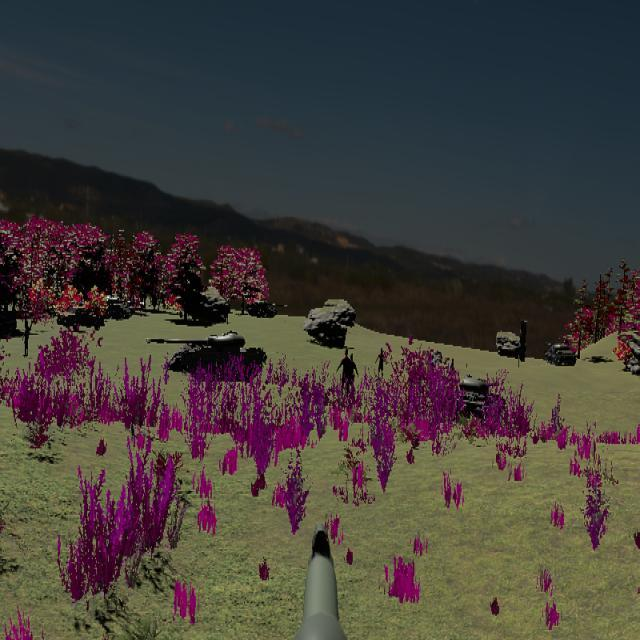Tank: (145, 330, 267, 382), (94, 294, 142, 320), (247, 299, 288, 318)
car: (56, 304, 105, 331)
